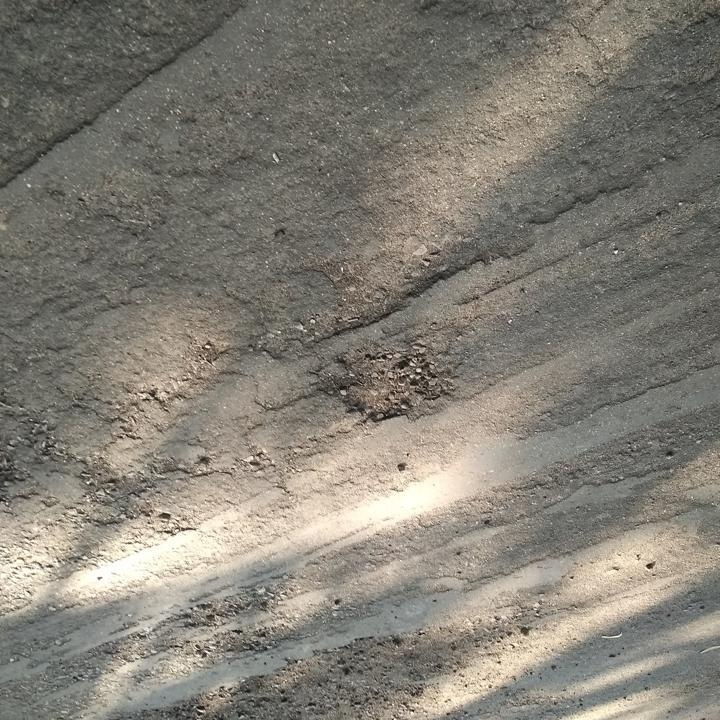pothole: (314, 345, 457, 426)
